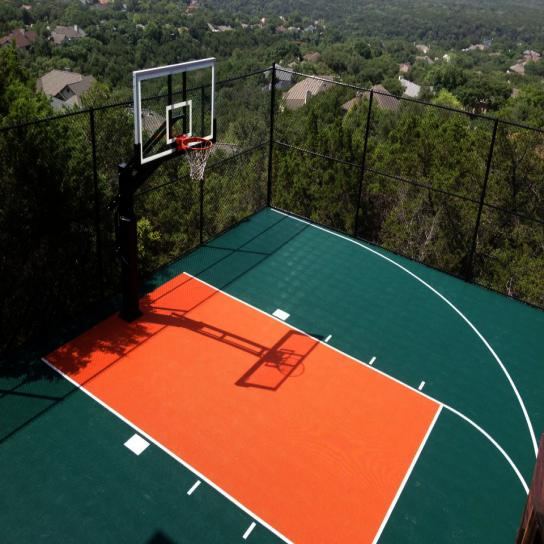basketball-hoop: (180, 137, 214, 181)
